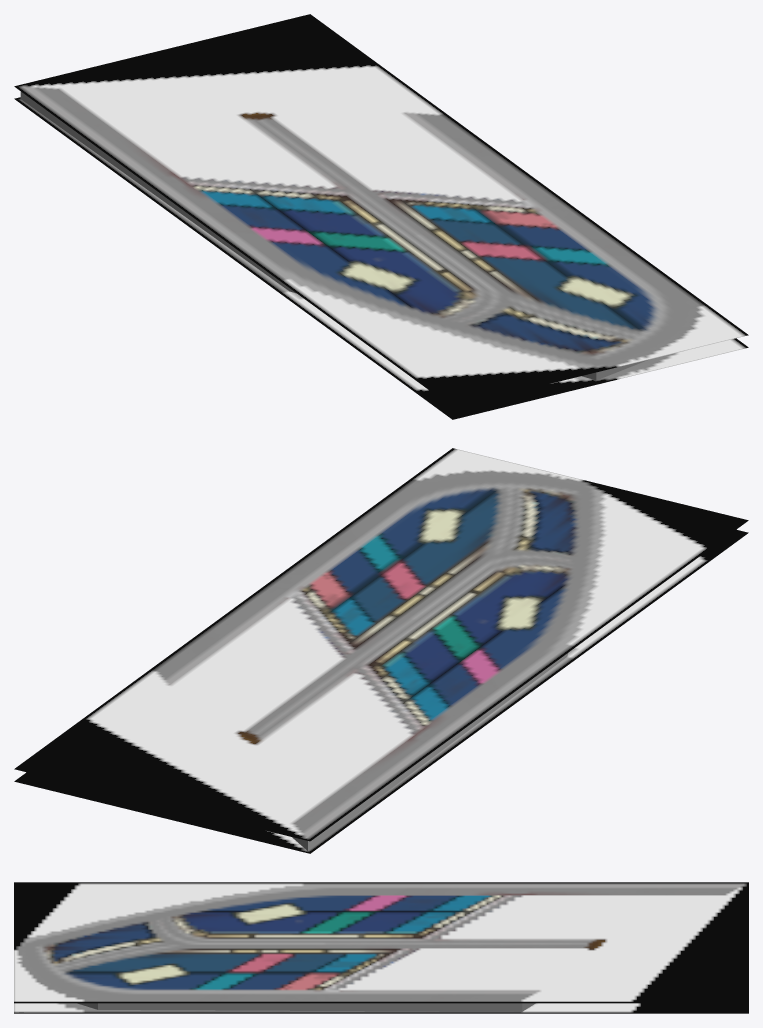
Rendered from pz_native_location_community_church_small_01_260_frame.obj.
The picture shows the model from 3 angles, top to bottom: view 1: azimuth 30°, elevation 25°; view 2: azimuth 150°, elevation 25°; view 3: azimuth 270°, elevation 25°; orthographic projection. The views are drawn at different scales.
Visible parts, largest first — view 1: pz_native_location_community_church_small_01_260_frame; view 2: pz_native_location_community_church_small_01_260_frame; view 3: pz_native_location_community_church_small_01_260_frame.
Boxes of the visible parts, x1=… form: pz_native_location_community_church_small_01_260_frame: x1=14, y1=14, x2=748, y2=419; pz_native_location_community_church_small_01_260_frame: x1=14, y1=448, x2=748, y2=853; pz_native_location_community_church_small_01_260_frame: x1=14, y1=882, x2=748, y2=1013.
Bounding box in the file's own units: 1 × 0.04 × 2.56.
1 material, 1 textured.
